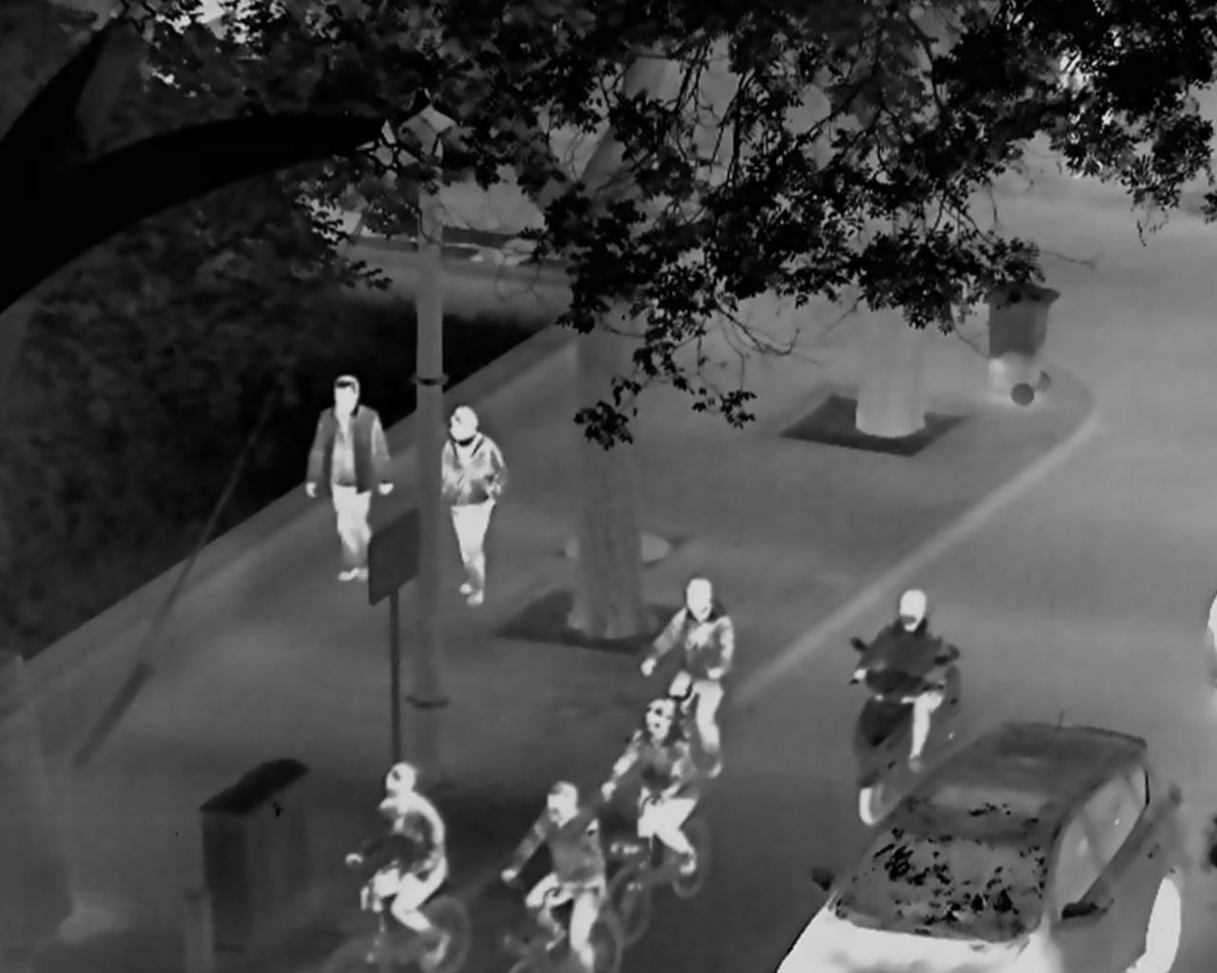person: (301, 372, 398, 582), (343, 758, 450, 938), (641, 575, 735, 777), (850, 589, 948, 771), (603, 696, 702, 874), (500, 779, 606, 939), (442, 400, 512, 606)
